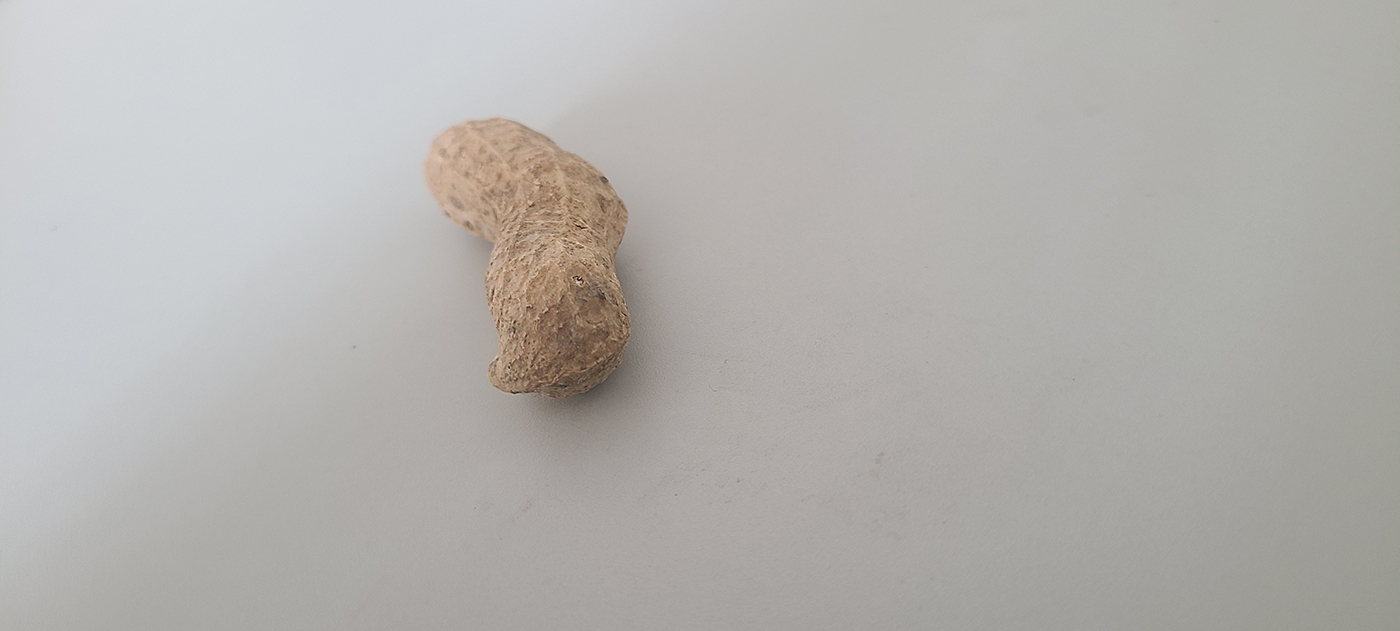h: (422, 114, 636, 400)
